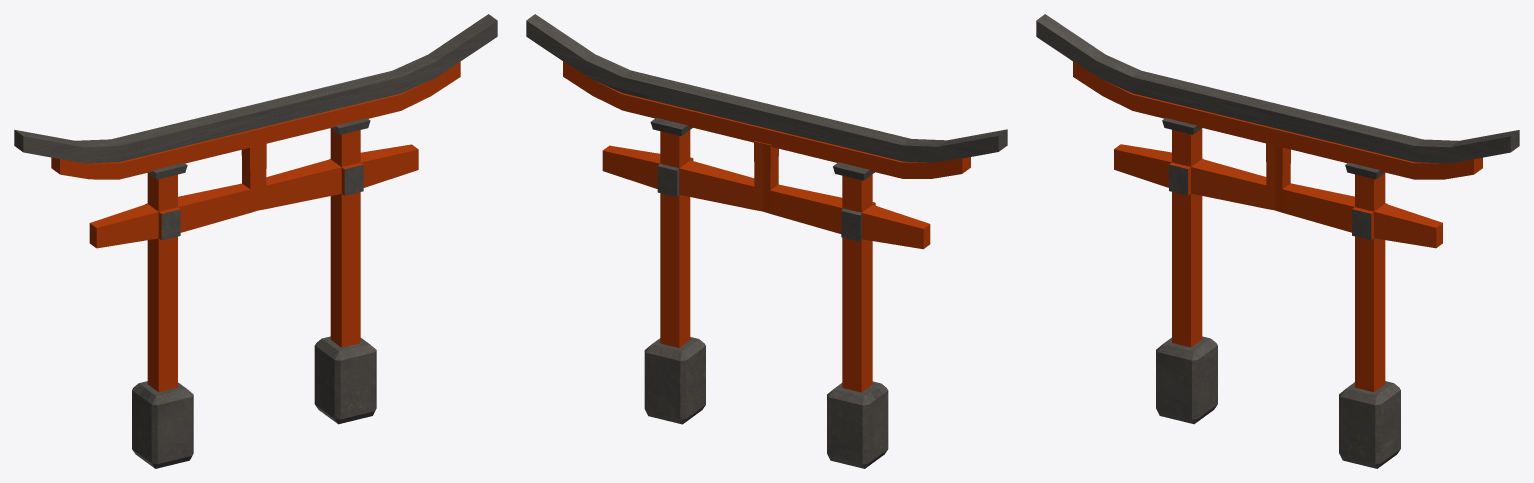
File: portal.glb
3 renders of one model, left to right at view 1: azimuth 30°, elevation 25°; view 2: azimuth 150°, elevation 25°; view 3: azimuth 330°, elevation 25°, orthographic.
Parts seen in each view (by area): view 1: Gates, roof, underRoof; view 2: Gates, roof, underRoof; view 3: Gates, roof, underRoof.
Boxes of the visible parts, x1=… form: Gates: x1=89, y1=118, x2=418, y2=468; roof: x1=14, y1=14, x2=497, y2=163; underRoof: x1=51, y1=62, x2=460, y2=179; Gates: x1=602, y1=118, x2=930, y2=468; roof: x1=526, y1=14, x2=1007, y2=162; underRoof: x1=563, y1=61, x2=970, y2=178; Gates: x1=1114, y1=118, x2=1442, y2=468; roof: x1=1036, y1=14, x2=1519, y2=163; underRoof: x1=1073, y1=61, x2=1482, y2=179.
Size of the model in its own units: 10.84 by 7.88 by 0.9556.
3 materials, 2 textured.
